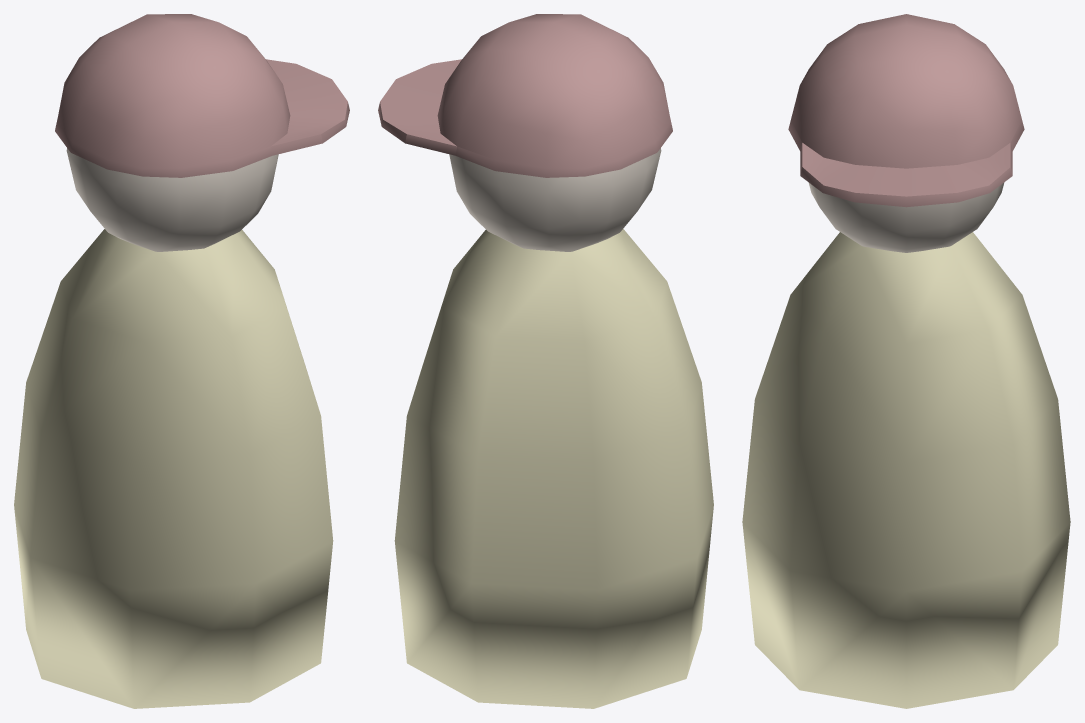
The model's file is Man_A.fbx.
3 renders of one model, left to right at view 1: azimuth 30°, elevation 25°; view 2: azimuth 150°, elevation 25°; view 3: azimuth 270°, elevation 25°, orthographic.
Parts seen in each view (by area): view 1: polySurface5; view 2: polySurface5; view 3: polySurface5.
Boxes of the visible parts, box(x1,y1,x2,y2) form: polySurface5: box(14, 14, 349, 708); polySurface5: box(378, 14, 713, 708); polySurface5: box(742, 14, 1070, 708).
Size of the model in its own units: 0.3713 by 0.7294 by 0.35.
